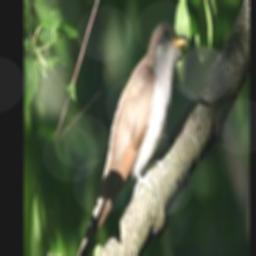Cuckoo: (59, 20, 189, 256)
